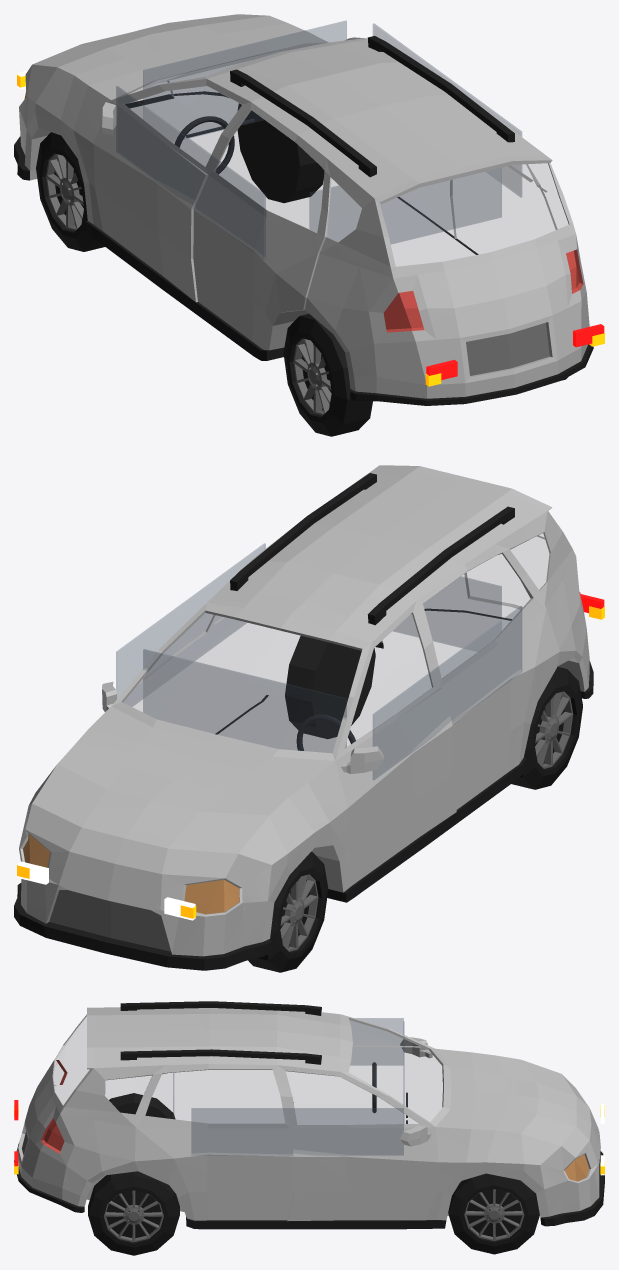
Rendered from suv.glb.
The picture shows the model from 3 angles, top to bottom: view 1: azimuth 30°, elevation 25°; view 2: azimuth 150°, elevation 25°; view 3: azimuth 270°, elevation 25°; orthographic projection. The views are drawn at different scales.
Visible parts, largest first — view 1: BODY, GLASS_LEFT, GLASS_REAR, GLASS_FRONT, SOURCE_WHEEL_REAR, SOURCE_WHEEL_FR, SOURCE_WHEEL_FL, GLASS_RIGHT, STEERING_WHEEL_RIM; view 2: BODY, GLASS_FRONT, SOURCE_WHEEL_REAR, GLASS_LEFT, GLASS_RIGHT, SOURCE_WHEEL_FL, GLASS_REAR; view 3: BODY, GLASS_RIGHT, SOURCE_WHEEL_REAR, SOURCE_WHEEL_FR, GLASS_LEFT.
Part boxes in pixels (left/top/right/bottom): BODY: left=14, top=14, right=593, bottom=405; GLASS_LEFT: left=116, top=86, right=265, bottom=259; GLASS_REAR: left=309, top=168, right=501, bottom=243; GLASS_FRONT: left=143, top=20, right=346, bottom=137; SOURCE_WHEEL_REAR: left=283, top=313, right=567, bottom=436; SOURCE_WHEEL_FR: left=237, top=103, right=324, bottom=203; SOURCE_WHEEL_FL: left=36, top=132, right=104, bottom=251; GLASS_RIGHT: left=373, top=23, right=521, bottom=197; STEERING_WHEEL_RIM: left=175, top=116, right=234, bottom=174; BODY: left=14, top=465, right=593, bottom=970; GLASS_FRONT: left=143, top=649, right=346, bottom=752; SOURCE_WHEEL_REAR: left=285, top=635, right=582, bottom=789; GLASS_LEFT: left=373, top=606, right=521, bottom=779; GLASS_RIGHT: left=116, top=543, right=265, bottom=706; SOURCE_WHEEL_FL: left=248, top=851, right=328, bottom=972; GLASS_REAR: left=393, top=576, right=501, bottom=647; BODY: left=14, top=1001, right=604, bottom=1229; GLASS_RIGHT: left=191, top=1108, right=403, bottom=1155; SOURCE_WHEEL_REAR: left=88, top=1093, right=179, bottom=1255; SOURCE_WHEEL_FR: left=448, top=1173, right=539, bottom=1254; GLASS_LEFT: left=350, top=1018, right=403, bottom=1065.
Size of the model in its own units: 1.91 by 1.7 by 4.83.
